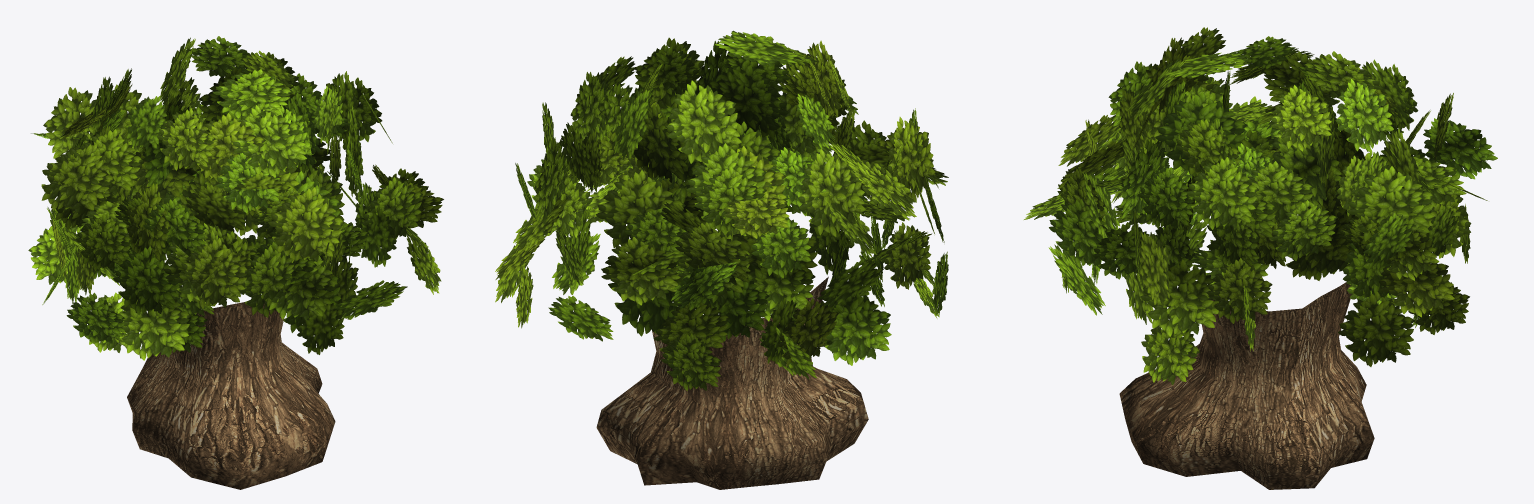
The model's file is mm8_deco_plant28.glb.
The picture shows the model from 3 angles, left to right: view 1: azimuth 30°, elevation 25°; view 2: azimuth 150°, elevation 25°; view 3: azimuth 270°, elevation 25°; orthographic projection. The views are drawn at different scales.
Visible parts, largest first — view 1: Plant; view 2: Plant; view 3: Plant.
Boxes of the visible parts, x1,y1,x2,y2 form: Plant: (28, 36, 443, 489); Plant: (495, 30, 948, 489); Plant: (1024, 27, 1497, 489).
Bounding box in the file's own units: 1.59 × 1.44 × 1.69.
Materials: 2 (2 with a texture image).
